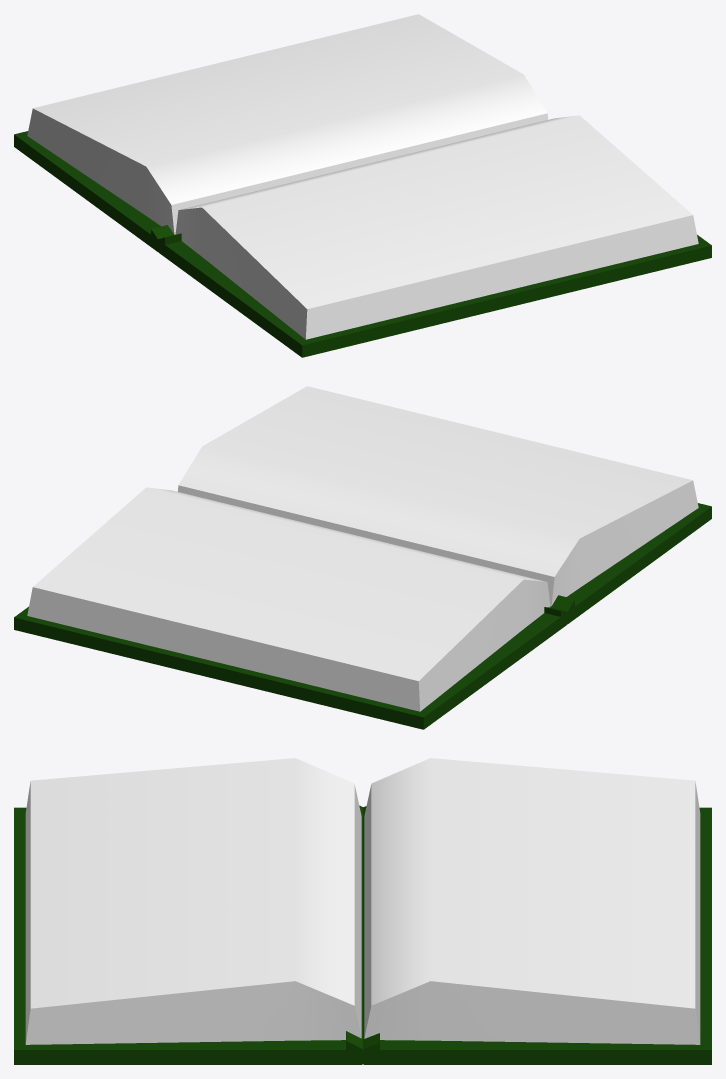
Rendered from book_d.fbx.
3 renders of one model, top to bottom at view 1: azimuth 30°, elevation 25°; view 2: azimuth 150°, elevation 25°; view 3: azimuth 270°, elevation 25°, orthographic. The views are drawn at different scales.
Parts seen in each view (by area): view 1: Part_02, Part_01; view 2: Part_01, Part_02; view 3: Part_02, Part_01.
Boxes of the visible parts, x1,y1,x2,y2 form: Part_02: (151, 115, 711, 357); Part_01: (14, 14, 548, 251); Part_01: (14, 487, 574, 729); Part_02: (177, 386, 711, 623); Part_02: (14, 758, 379, 1064); Part_01: (346, 758, 711, 1064).
Size of the model in its own units: 0.4298 by 0.0615 by 0.5237.
